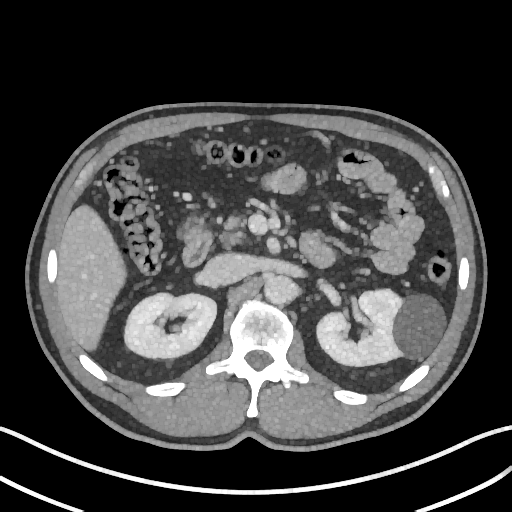Lesion: (387, 289, 450, 363)
